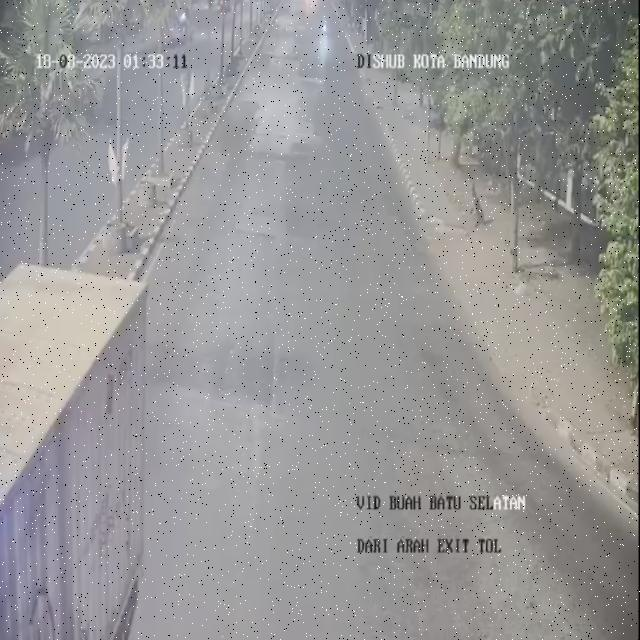truck: (0, 257, 157, 639)
